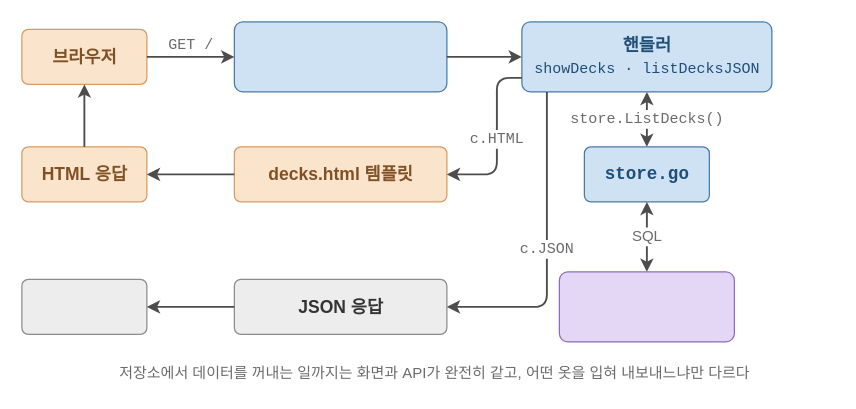
Image size: 856x409. Some labels were removed from this diagram. Here are the shapes that lost their labels. From the top down, the centre of each, then its label:
At point 340,56: "Gin 엔진 주소를 보고 핸들러를 고른다".
At point 84,306: "curl".
At point 646,306: "SQLite 파일 flashcard.db".
